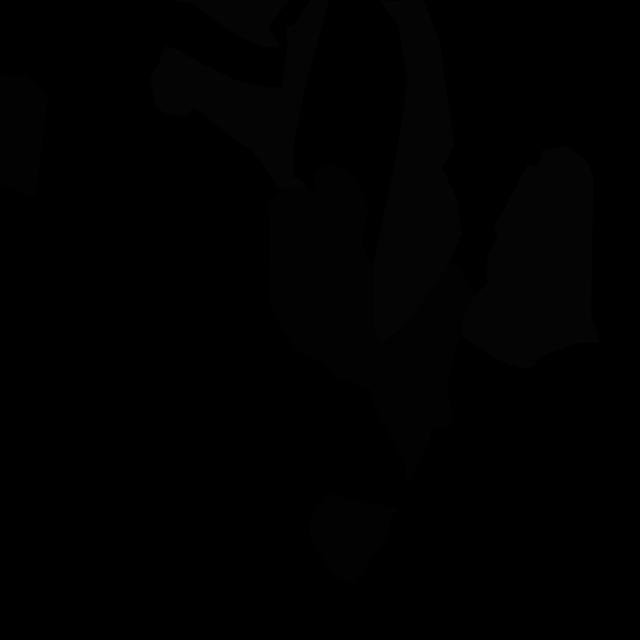cardboard: (268, 164, 387, 390), (371, 263, 476, 484), (309, 493, 398, 586)
soft_plastic: (372, 0, 462, 343), (461, 146, 600, 368), (150, 46, 291, 190), (279, 0, 329, 189), (175, 0, 291, 47)
